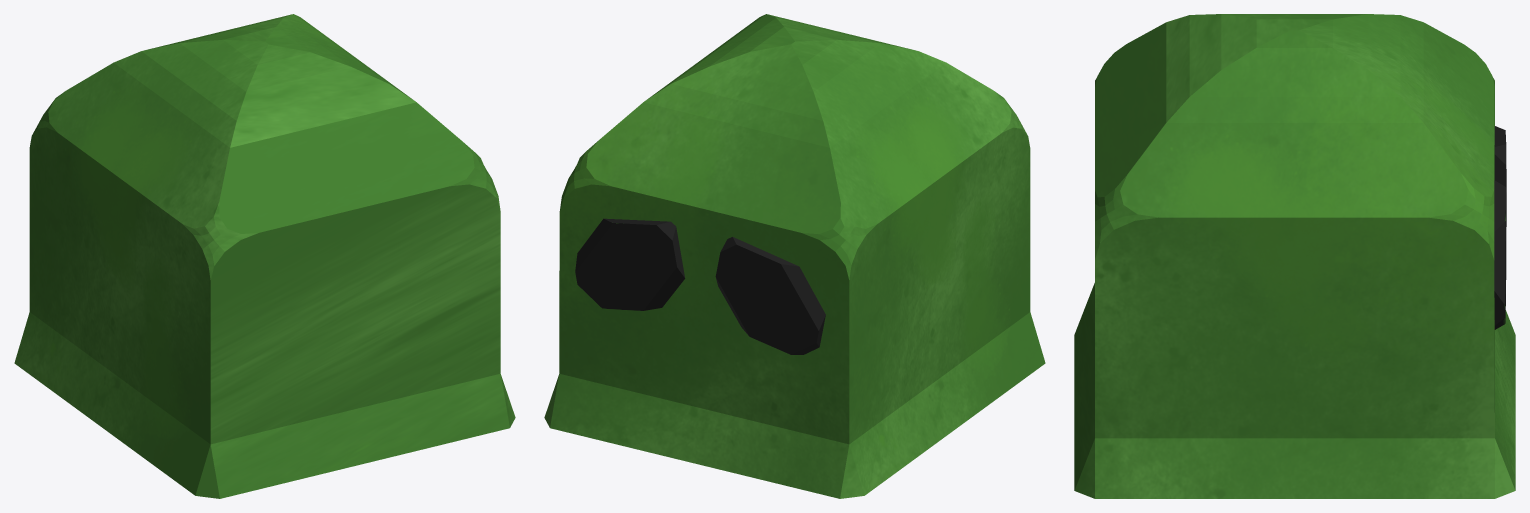
The model's file is ghostOne.fbx.
3 views of the same model, side by side, from view 1: azimuth 30°, elevation 25°; view 2: azimuth 150°, elevation 25°; view 3: azimuth 270°, elevation 25° (orthographic). The views are drawn at different scales.
Visible parts, largest first — view 1: Cube; view 2: Cube; view 3: Cube.
Boxes of the visible parts, box(x1,y1,x2,y2) form: Cube: box(14, 14, 515, 498); Cube: box(544, 14, 1045, 498); Cube: box(1074, 14, 1515, 498).
Size of the model in its own units: 0.8067 by 0.8356 by 0.8713.
1 material, 1 textured.
